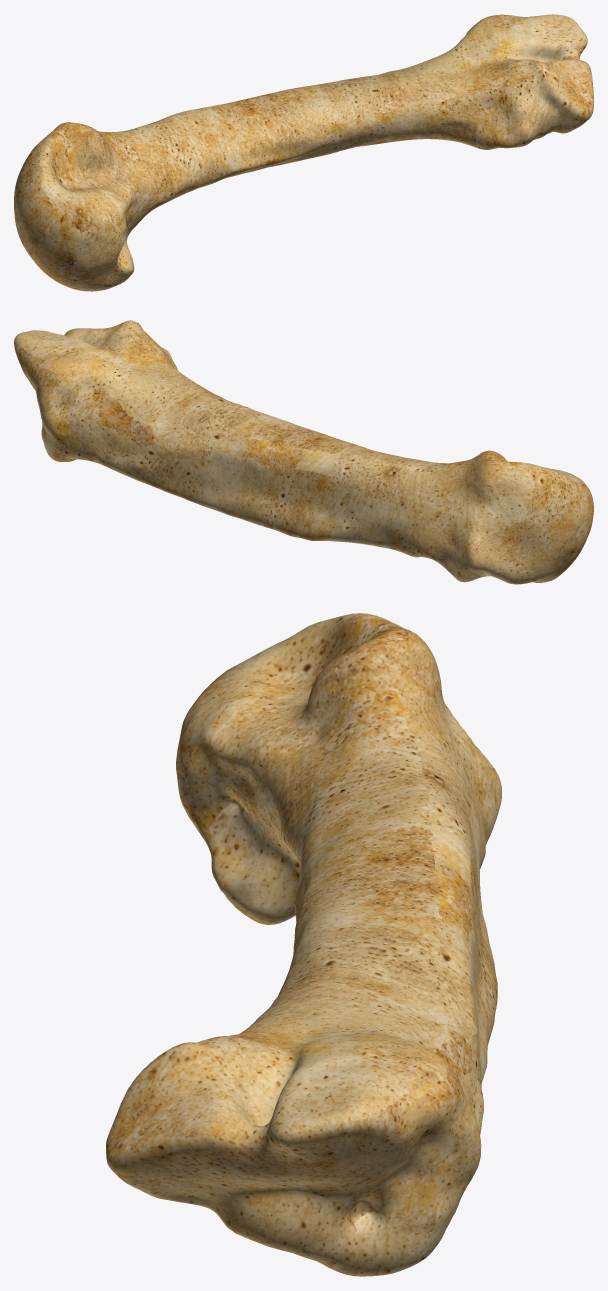
Rendered from mountain-gorilla-metacarpal2-left-2k-v01-textured-v03.glb.
The picture shows the model from 3 angles, top to bottom: view 1: azimuth 30°, elevation 25°; view 2: azimuth 150°, elevation 25°; view 3: azimuth 270°, elevation 25°; orthographic projection. The views are drawn at different scales.
Parts seen in each view (by area): view 1: Mesh_0; view 2: Mesh_0; view 3: Mesh_0.
Boxes of the visible parts, x1,y1,x2,y2 form: Mesh_0: [14, 14, 593, 291]; Mesh_0: [14, 320, 593, 584]; Mesh_0: [106, 613, 501, 1276].
Bounding box in the file's own units: 86.77 × 20.95 × 26.59.
Materials: 1 (1 with a texture image).
